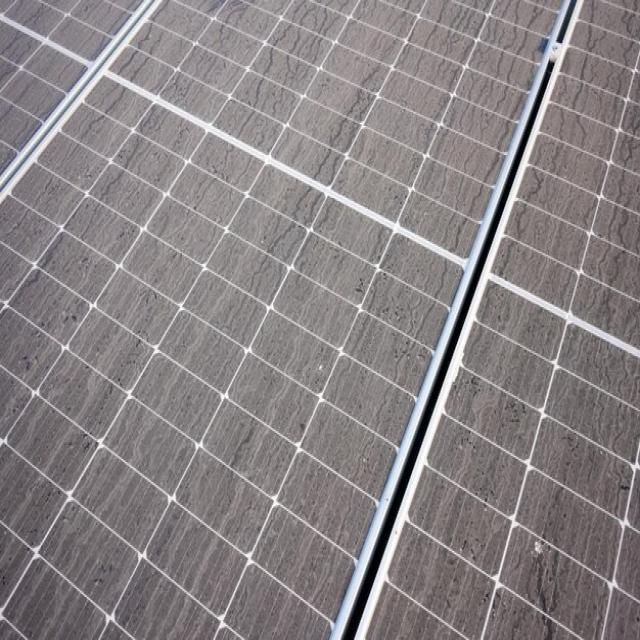Dusty: (0, 0, 574, 640), (358, 0, 640, 640), (0, 0, 144, 183)
